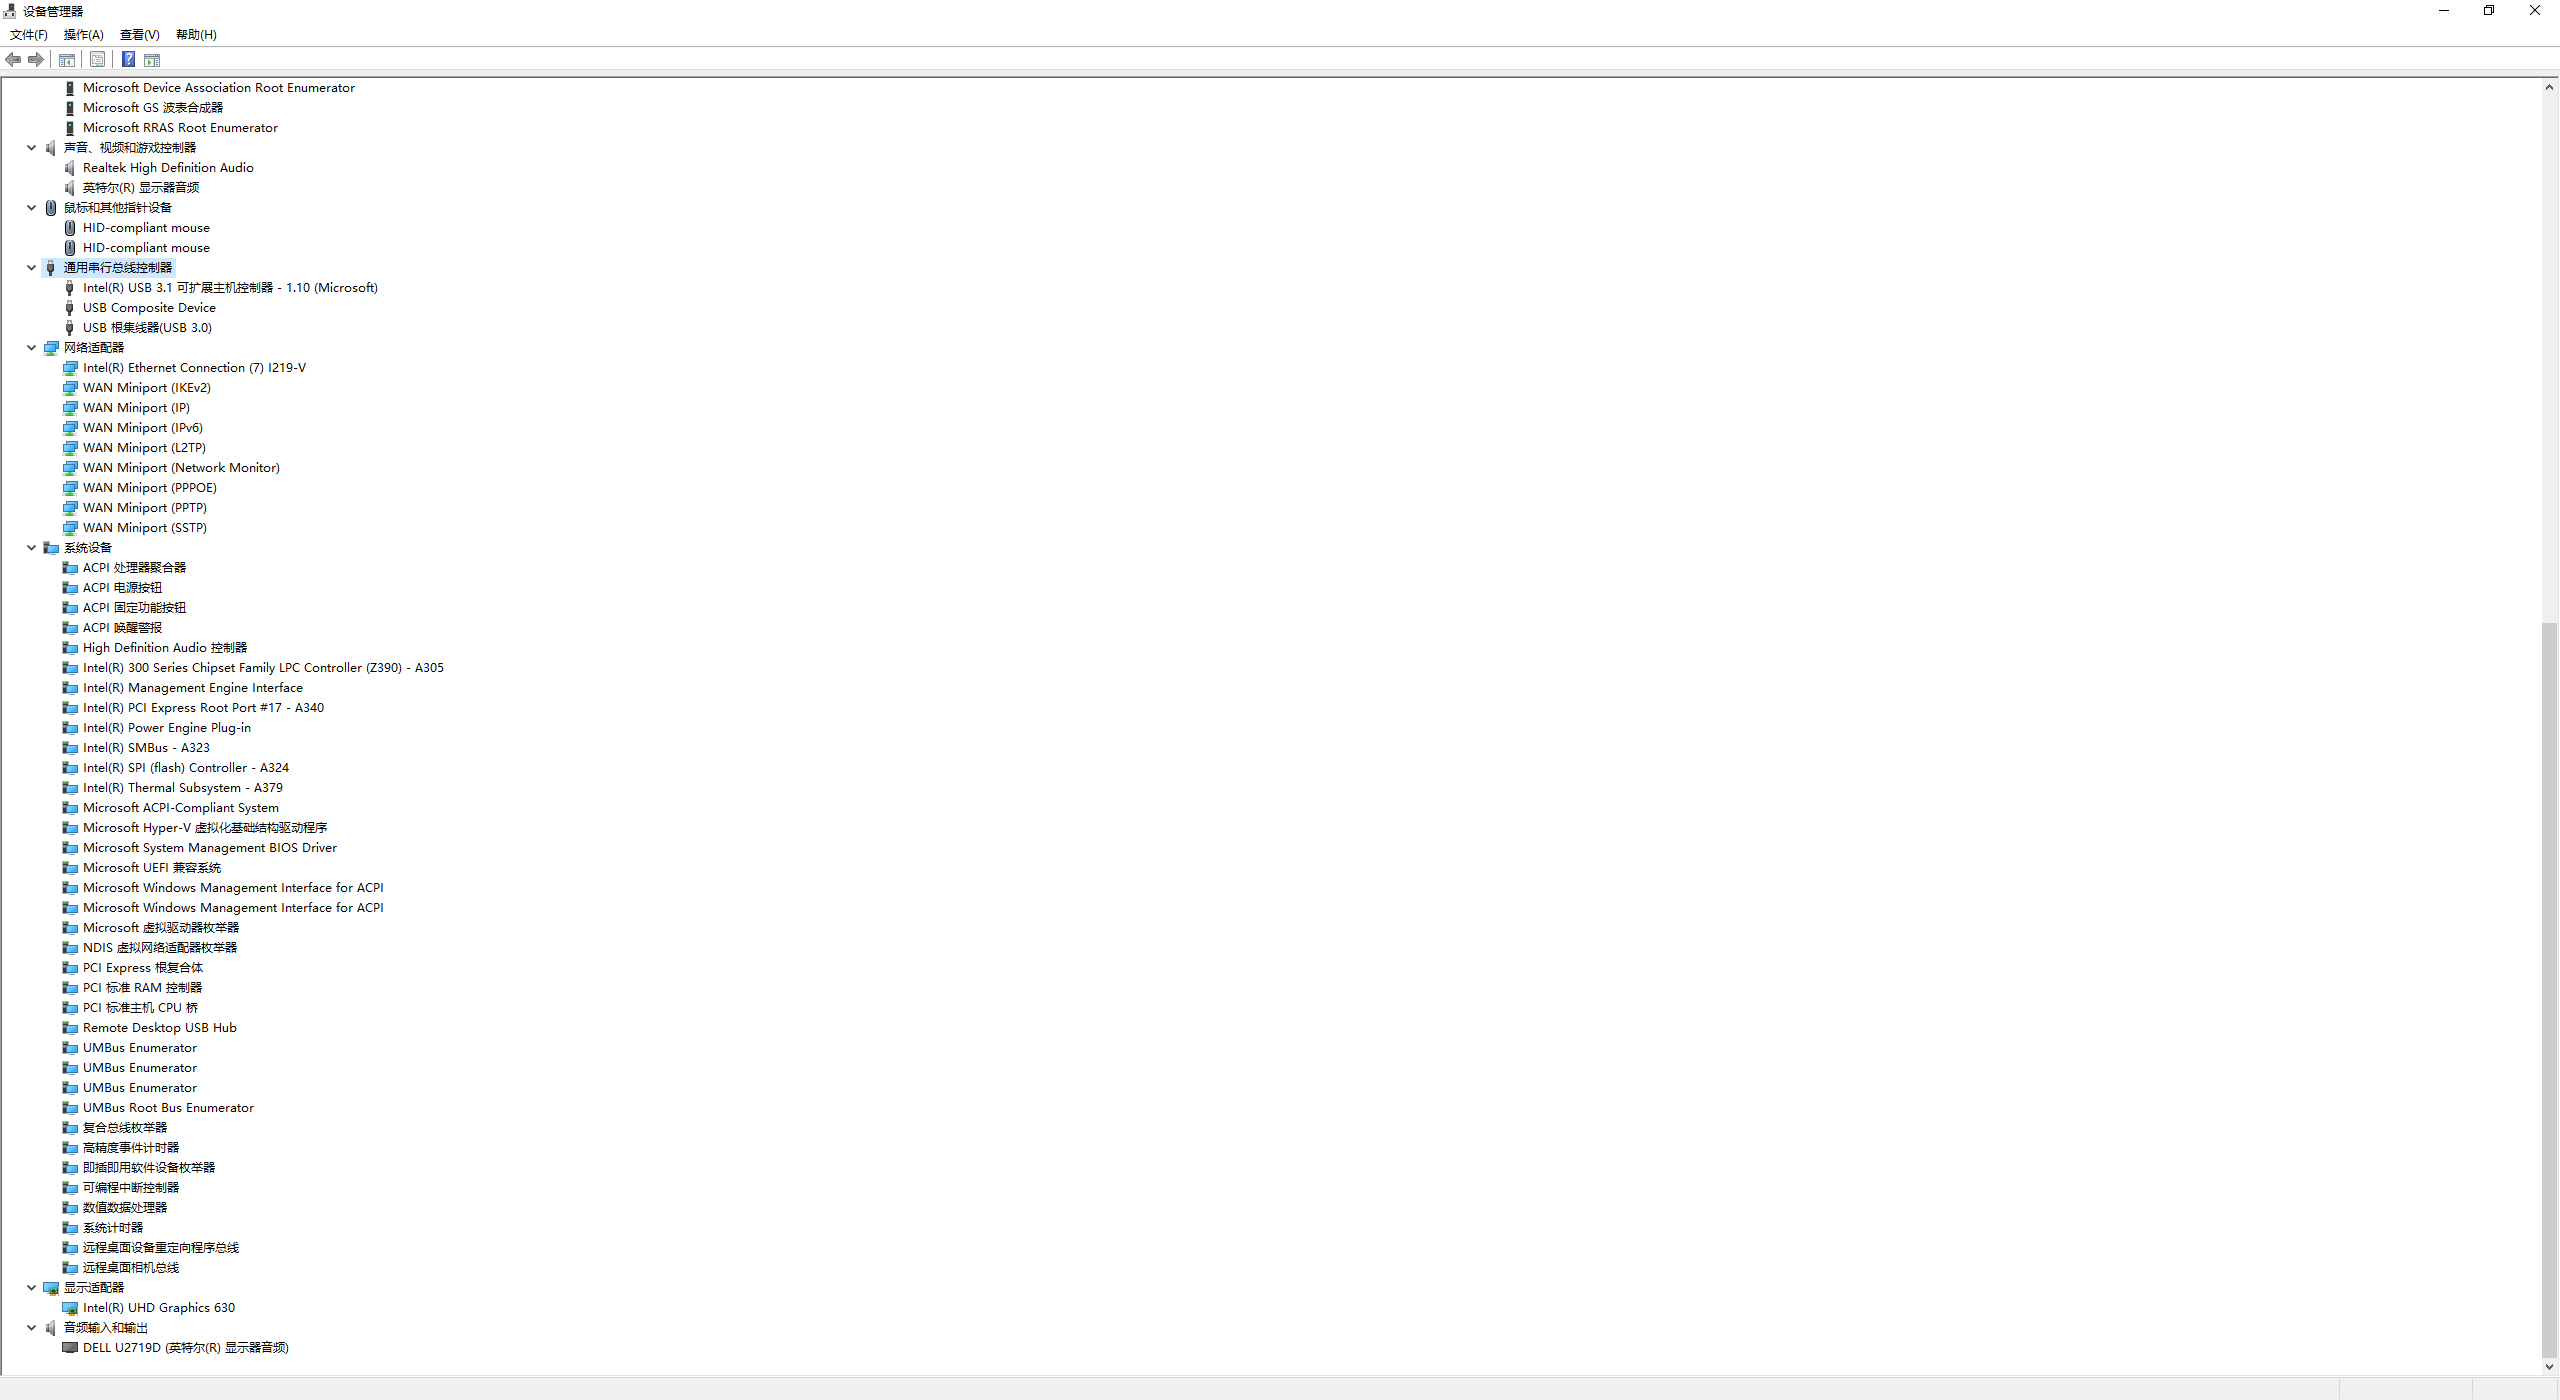character: (83, 79, 360, 97), (83, 281, 383, 295), (81, 662, 452, 672), (83, 902, 388, 914), (83, 881, 386, 893), (83, 359, 314, 374), (83, 841, 340, 855), (79, 821, 329, 834), (83, 1340, 295, 1355), (83, 800, 286, 816), (81, 681, 307, 695), (83, 159, 259, 176), (81, 703, 329, 716), (81, 462, 284, 476), (81, 721, 257, 736), (83, 121, 279, 134), (83, 762, 297, 774), (81, 781, 286, 793), (83, 921, 241, 936), (81, 1102, 259, 1116), (83, 479, 222, 497), (83, 100, 228, 116), (83, 941, 245, 955), (81, 1021, 240, 1034), (83, 1240, 241, 1253), (83, 179, 209, 197), (83, 979, 209, 997), (83, 300, 222, 316), (81, 641, 252, 653), (83, 379, 214, 395), (84, 559, 195, 576), (79, 1160, 217, 1174), (81, 962, 217, 976), (83, 1302, 238, 1314), (83, 321, 215, 334), (83, 862, 234, 874), (83, 441, 214, 455), (83, 400, 198, 416), (79, 1179, 195, 1195), (62, 260, 176, 276), (83, 221, 210, 234), (81, 422, 209, 436), (83, 522, 210, 536), (64, 141, 202, 153), (83, 1060, 203, 1074), (83, 1081, 203, 1095), (83, 1040, 202, 1053), (83, 502, 217, 514), (83, 241, 214, 253), (81, 1198, 171, 1216), (83, 741, 210, 753), (83, 1002, 210, 1014), (64, 200, 171, 214), (83, 1262, 186, 1276), (83, 1141, 183, 1155), (81, 621, 179, 634), (83, 602, 190, 614), (64, 1321, 155, 1334), (83, 1121, 172, 1134), (83, 583, 178, 595), (64, 1279, 133, 1295), (21, 3, 88, 19), (83, 1221, 152, 1234), (64, 340, 128, 353), (60, 26, 107, 41), (117, 28, 164, 43), (64, 541, 121, 553), (176, 26, 217, 41), (7, 28, 50, 41)
icon: (60, 724, 79, 745), (60, 1029, 79, 1050), (60, 1245, 79, 1266), (60, 1229, 79, 1250), (60, 629, 79, 648), (60, 748, 79, 767), (60, 903, 79, 922), (57, 50, 76, 67), (60, 578, 78, 597), (60, 1017, 78, 1036), (41, 1279, 60, 1297), (60, 79, 78, 98), (60, 157, 76, 178), (60, 379, 78, 397), (28, 50, 45, 67), (88, 50, 105, 67), (60, 279, 78, 297), (60, 459, 78, 476), (60, 498, 78, 516), (60, 659, 78, 676), (60, 638, 78, 655), (60, 617, 78, 634), (60, 519, 78, 536), (60, 678, 78, 695), (60, 598, 78, 616), (60, 698, 78, 716), (60, 559, 78, 576), (60, 717, 78, 734), (60, 959, 78, 976), (60, 738, 78, 755), (60, 938, 78, 955), (60, 917, 78, 934), (60, 778, 78, 795), (60, 878, 78, 895), (60, 798, 78, 816), (60, 898, 78, 916), (60, 978, 78, 995), (60, 998, 78, 1016), (60, 838, 78, 855), (60, 1159, 78, 1176), (60, 1117, 78, 1134), (60, 1078, 78, 1095), (60, 1138, 78, 1155), (60, 1098, 78, 1116), (60, 1259, 78, 1276), (60, 1178, 78, 1195), (60, 1038, 78, 1055), (60, 1219, 78, 1236), (60, 1198, 78, 1216), (60, 1059, 78, 1076), (43, 136, 55, 159), (60, 360, 78, 376), (41, 340, 59, 355), (143, 52, 160, 67), (2, 2, 17, 19), (3, 52, 21, 67), (2526, 2, 2543, 17), (62, 479, 78, 497), (60, 440, 78, 455), (60, 421, 78, 436), (41, 540, 59, 555), (60, 759, 78, 774), (60, 819, 78, 834), (60, 859, 78, 874), (60, 1302, 78, 1317), (60, 1240, 78, 1255), (60, 1340, 78, 1355), (43, 198, 57, 217), (62, 400, 78, 416), (121, 50, 136, 66), (62, 121, 78, 136), (41, 259, 55, 276), (62, 298, 76, 316), (64, 217, 76, 236), (64, 238, 76, 257), (43, 1317, 55, 1336), (24, 200, 40, 214), (2481, 2, 2496, 16), (24, 540, 40, 553), (24, 1319, 38, 1334), (64, 319, 76, 336), (64, 98, 76, 116), (64, 178, 74, 197), (24, 340, 38, 353), (24, 259, 38, 272), (2543, 79, 2557, 93), (2543, 1359, 2557, 1372), (2436, 3, 2451, 16), (26, 1279, 38, 1295), (26, 140, 36, 152)
